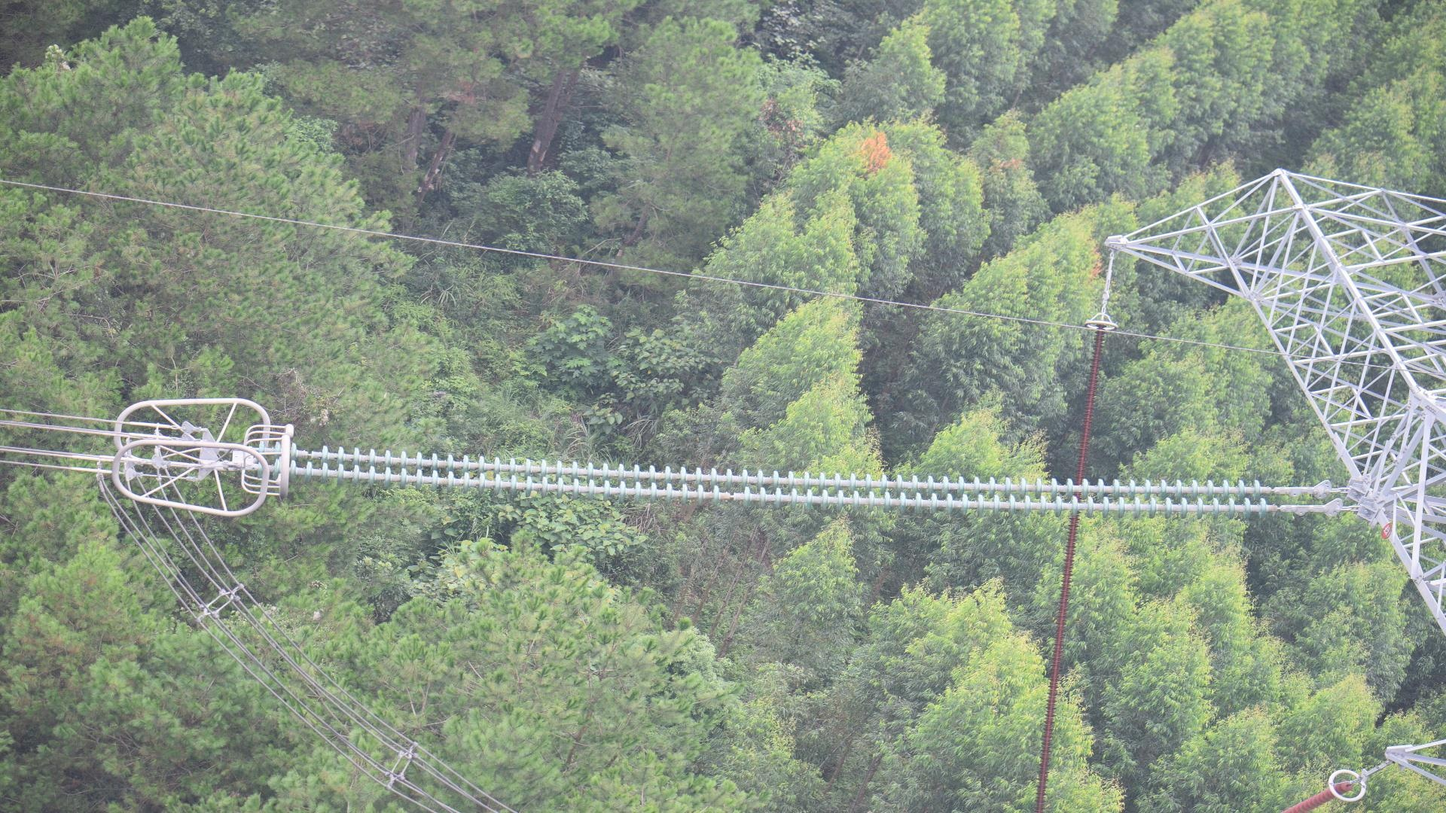insulator: (248, 435, 1272, 526), (1028, 324, 1106, 813), (1276, 775, 1355, 813)
